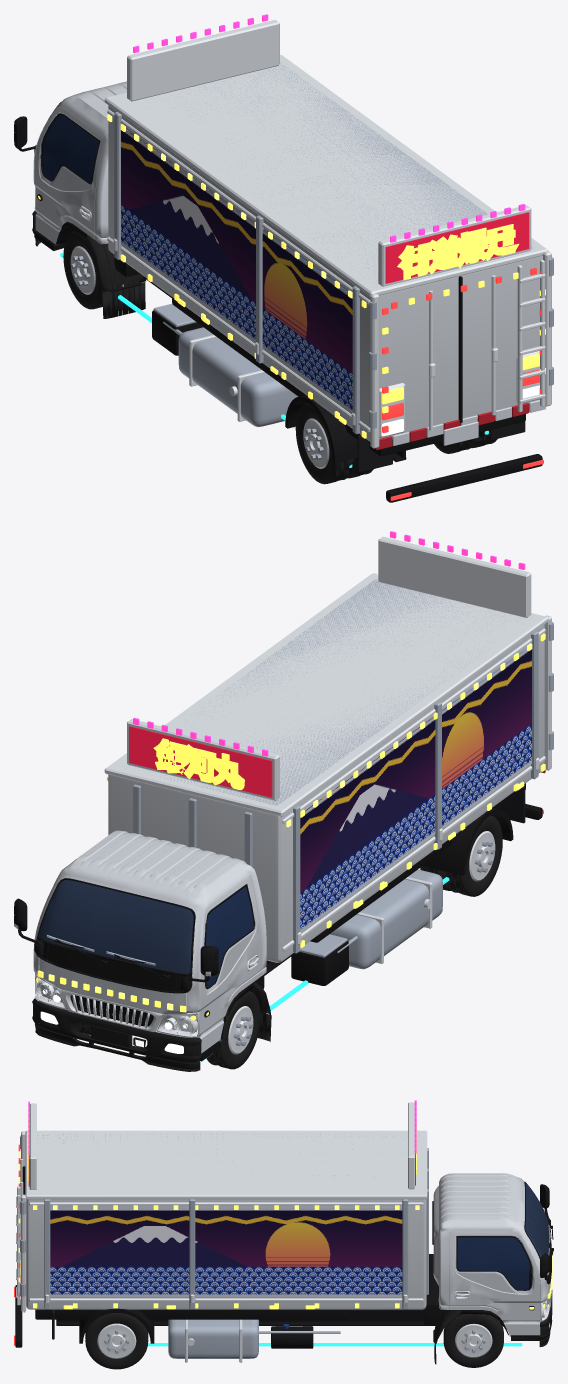
The model's file is dekotora_truck_leve_curta.glb.
3 views of the same model, one above another, from view 1: azimuth 30°, elevation 25°; view 2: azimuth 150°, elevation 25°; view 3: azimuth 270°, elevation 25° (orthographic). The views are drawn at different scales.
Visible parts, largest first — view 1: truck_chrome, truck_paint_white_panel, truck_mural, truck_steel, truck_plastic_black, truck_lamp_amber, truck_glass, wheel_r_L_1.5_1.06, truck_rubber, truck_andon_panel, wheel_f_L, truck_paint_white (+4 smaller); view 2: truck_chrome, truck_paint_white_panel, truck_mural, truck_steel, truck_plastic_black, truck_glass_wind, truck_plastic_trim, truck_lamp_amber, truck_andon_panel, wheel_r_L_1.5_1.06, wheel_f_L, truck_glass (+3 smaller); view 3: truck_chrome, truck_mural, truck_paint_white_panel, truck_plastic_black, truck_steel, wheel_r_R_1.5_1.06, wheel_f_R, truck_glass, truck_glass_wind, truck_lamp_amber, truck_lamp_cyan, truck_plastic_trim.
Boxes of the visible parts, bbox=[...] form: truck_chrome: bbox=[34, 19, 551, 448]; truck_paint_white_panel: bbox=[33, 81, 542, 441]; truck_mural: bbox=[121, 129, 352, 412]; truck_steel: bbox=[114, 62, 553, 434]; truck_plastic_black: bbox=[14, 101, 542, 502]; truck_lamp_amber: bbox=[38, 124, 545, 438]; truck_glass: bbox=[43, 115, 98, 182]; wheel_r_L_1.5_1.06: bbox=[295, 403, 354, 484]; truck_rubber: bbox=[102, 282, 525, 472]; truck_andon_panel: bbox=[385, 212, 529, 283]; wheel_f_L: bbox=[63, 231, 108, 309]; truck_paint_white: bbox=[392, 400, 545, 445]; truck_chrome: bbox=[15, 536, 551, 1037]; truck_paint_white_panel: bbox=[33, 624, 544, 1053]; truck_mural: bbox=[300, 648, 531, 932]; truck_steel: bbox=[46, 579, 553, 1014]; truck_plastic_black: bbox=[14, 783, 542, 1061]; truck_glass_wind: bbox=[39, 880, 193, 973]; truck_plastic_trim: bbox=[32, 981, 270, 1071]; truck_lamp_amber: bbox=[36, 633, 545, 1020]; truck_andon_panel: bbox=[129, 726, 272, 797]; wheel_r_L_1.5_1.06: bbox=[443, 815, 502, 896]; wheel_f_L: bbox=[206, 991, 260, 1069]; truck_glass: bbox=[205, 886, 253, 987]; truck_chrome: bbox=[16, 1102, 551, 1362]; truck_mural: bbox=[50, 1208, 402, 1296]; truck_paint_white_panel: bbox=[26, 1173, 550, 1335]; truck_plastic_black: bbox=[15, 1166, 553, 1348]; truck_steel: bbox=[20, 1133, 550, 1358]; wheel_r_R_1.5_1.06: bbox=[85, 1313, 148, 1369]; wheel_f_R: bbox=[443, 1310, 503, 1367]; truck_glass: bbox=[457, 1237, 529, 1289]; truck_glass_wind: bbox=[525, 1183, 549, 1257]; truck_lamp_amber: bbox=[18, 1116, 552, 1309]; truck_lamp_cyan: bbox=[148, 1343, 522, 1346]; truck_plastic_trim: bbox=[434, 1290, 552, 1346].
Size of the model in its own units: 2.91 by 3.91 by 8.93.
Materials: 22 (6 with a texture image).
